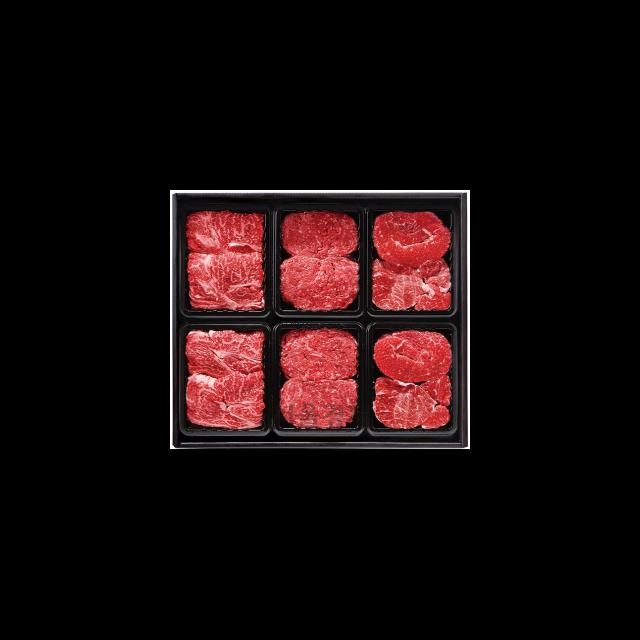beef: (187, 330, 265, 426), (189, 216, 263, 307), (374, 215, 445, 307), (381, 332, 451, 424), (275, 324, 355, 401), (287, 216, 353, 304)
